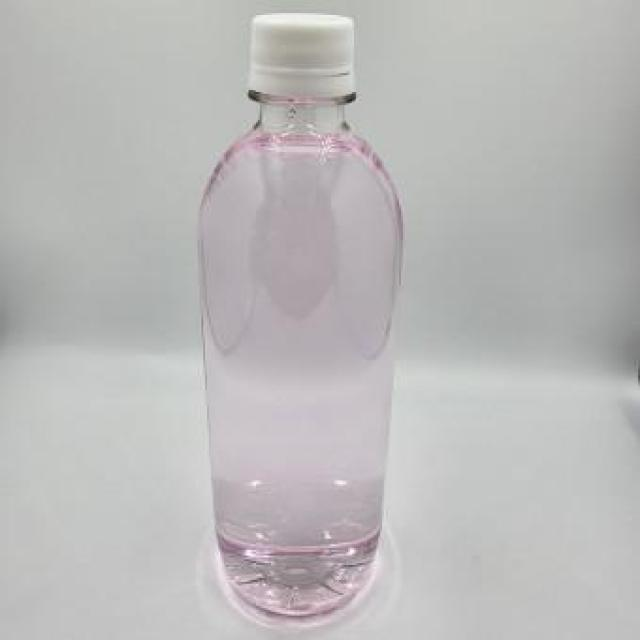bottle: (192, 15, 408, 618)
